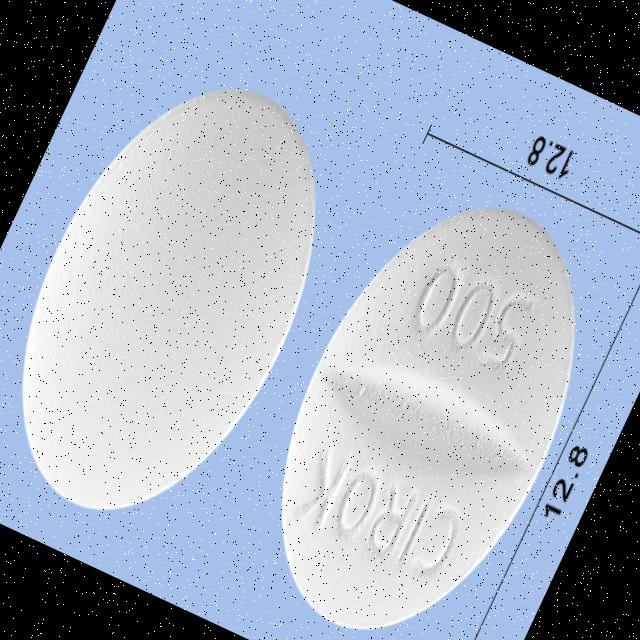Cirok: (213, 153, 640, 640), (0, 36, 381, 565)
